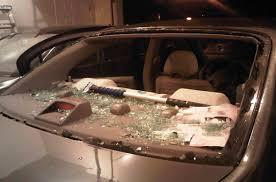Rear-windscreen-Damage: (29, 20, 273, 160)
